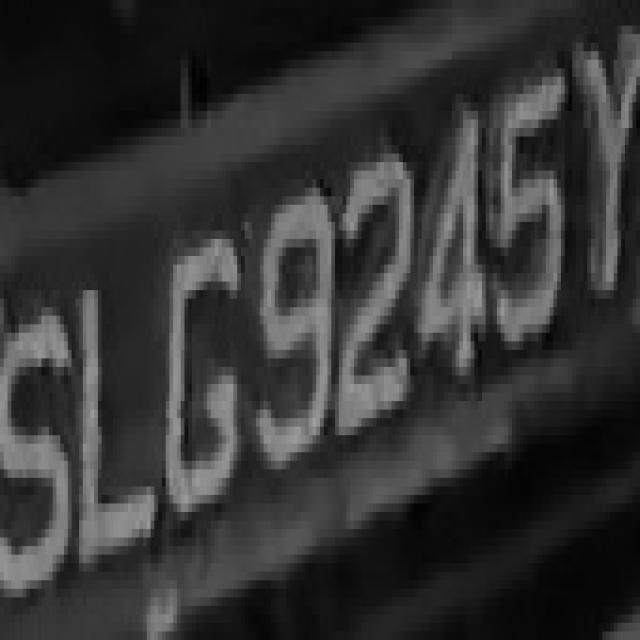2: (328, 136, 414, 444)
4: (403, 137, 497, 418)
5: (489, 43, 568, 350)
9: (249, 162, 335, 504)
G: (150, 222, 244, 520)
L: (68, 256, 154, 572)
S: (8, 282, 72, 623)
Y: (576, 34, 629, 307)
